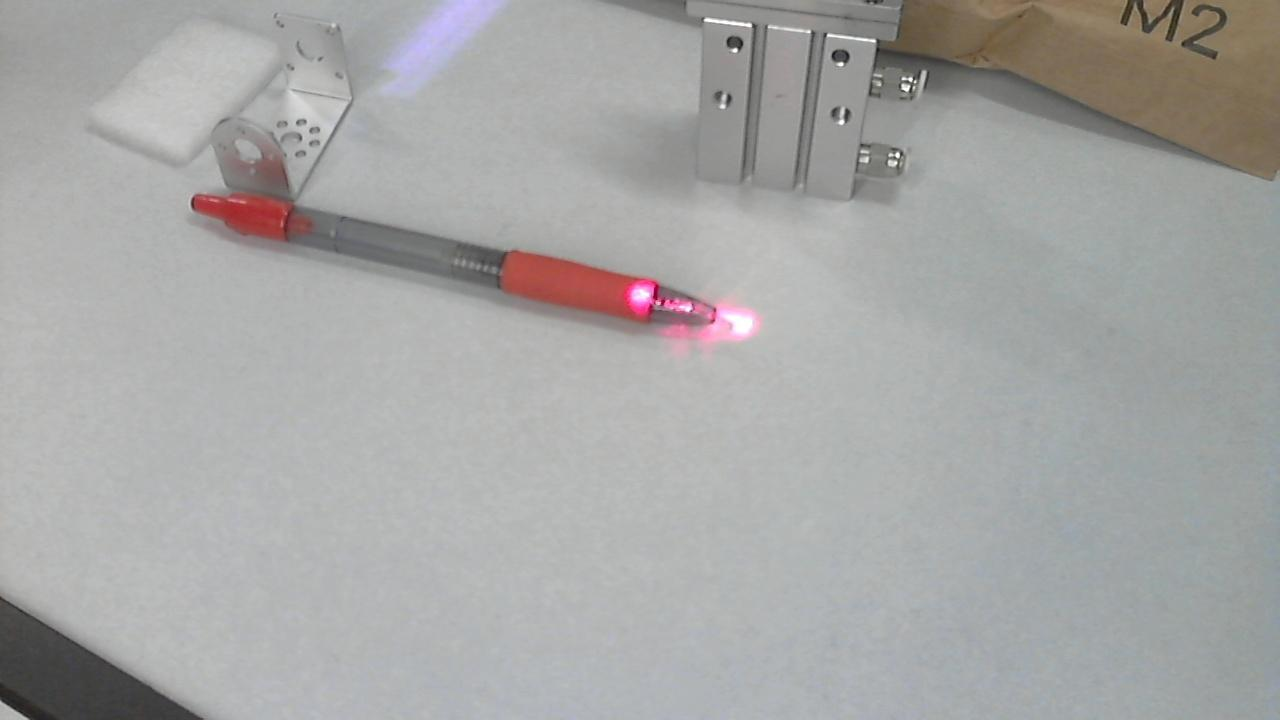Object ballpoint pen - Material rubber - Color red - Pdfname Tg2wygrqE5uZ: (608, 265, 664, 326)
